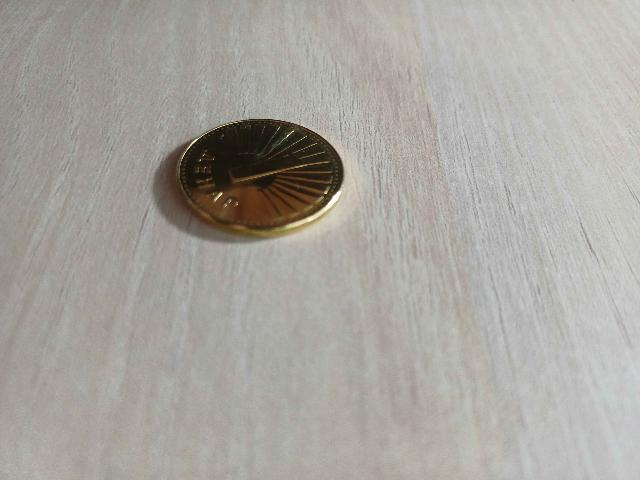1_coin: (177, 120, 343, 236)
